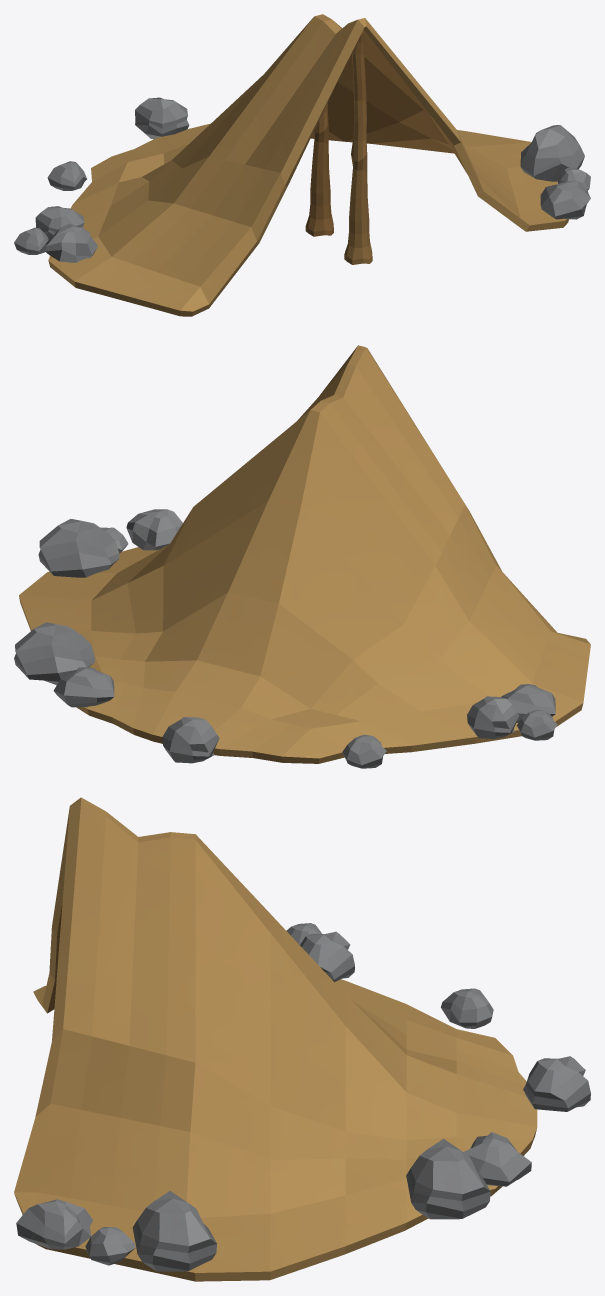
File: tent.glb
The picture shows the model from 3 angles, top to bottom: view 1: azimuth 30°, elevation 25°; view 2: azimuth 150°, elevation 25°; view 3: azimuth 270°, elevation 25°; orthographic projection. The views are drawn at different scales.
Parts seen in each view (by area): view 1: tent; view 2: tent; view 3: tent.
Part boxes in pixels (x1=…): tent: x1=14, y1=14, x2=590, y2=316; tent: x1=14, y1=345, x2=590, y2=768; tent: x1=14, y1=797, x2=590, y2=1281.
Size of the model in its own units: 4.61 by 2.07 by 3.34.
1 material, 1 textured.
